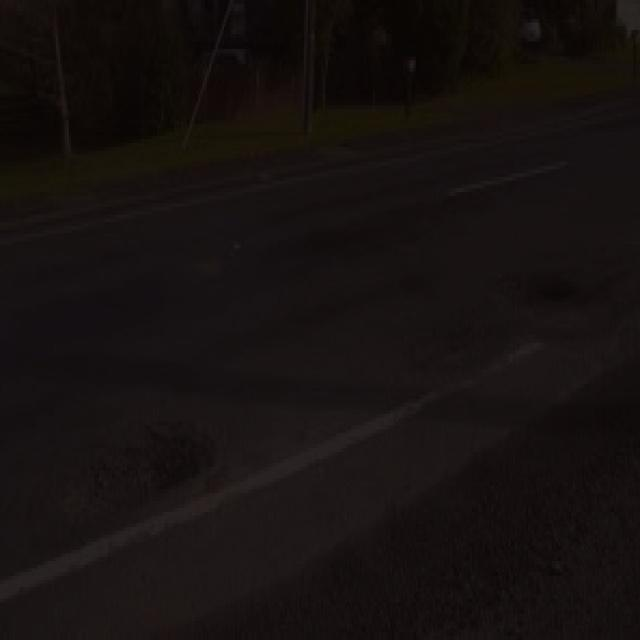Pothole: (35, 409, 225, 535), (497, 257, 590, 320)
